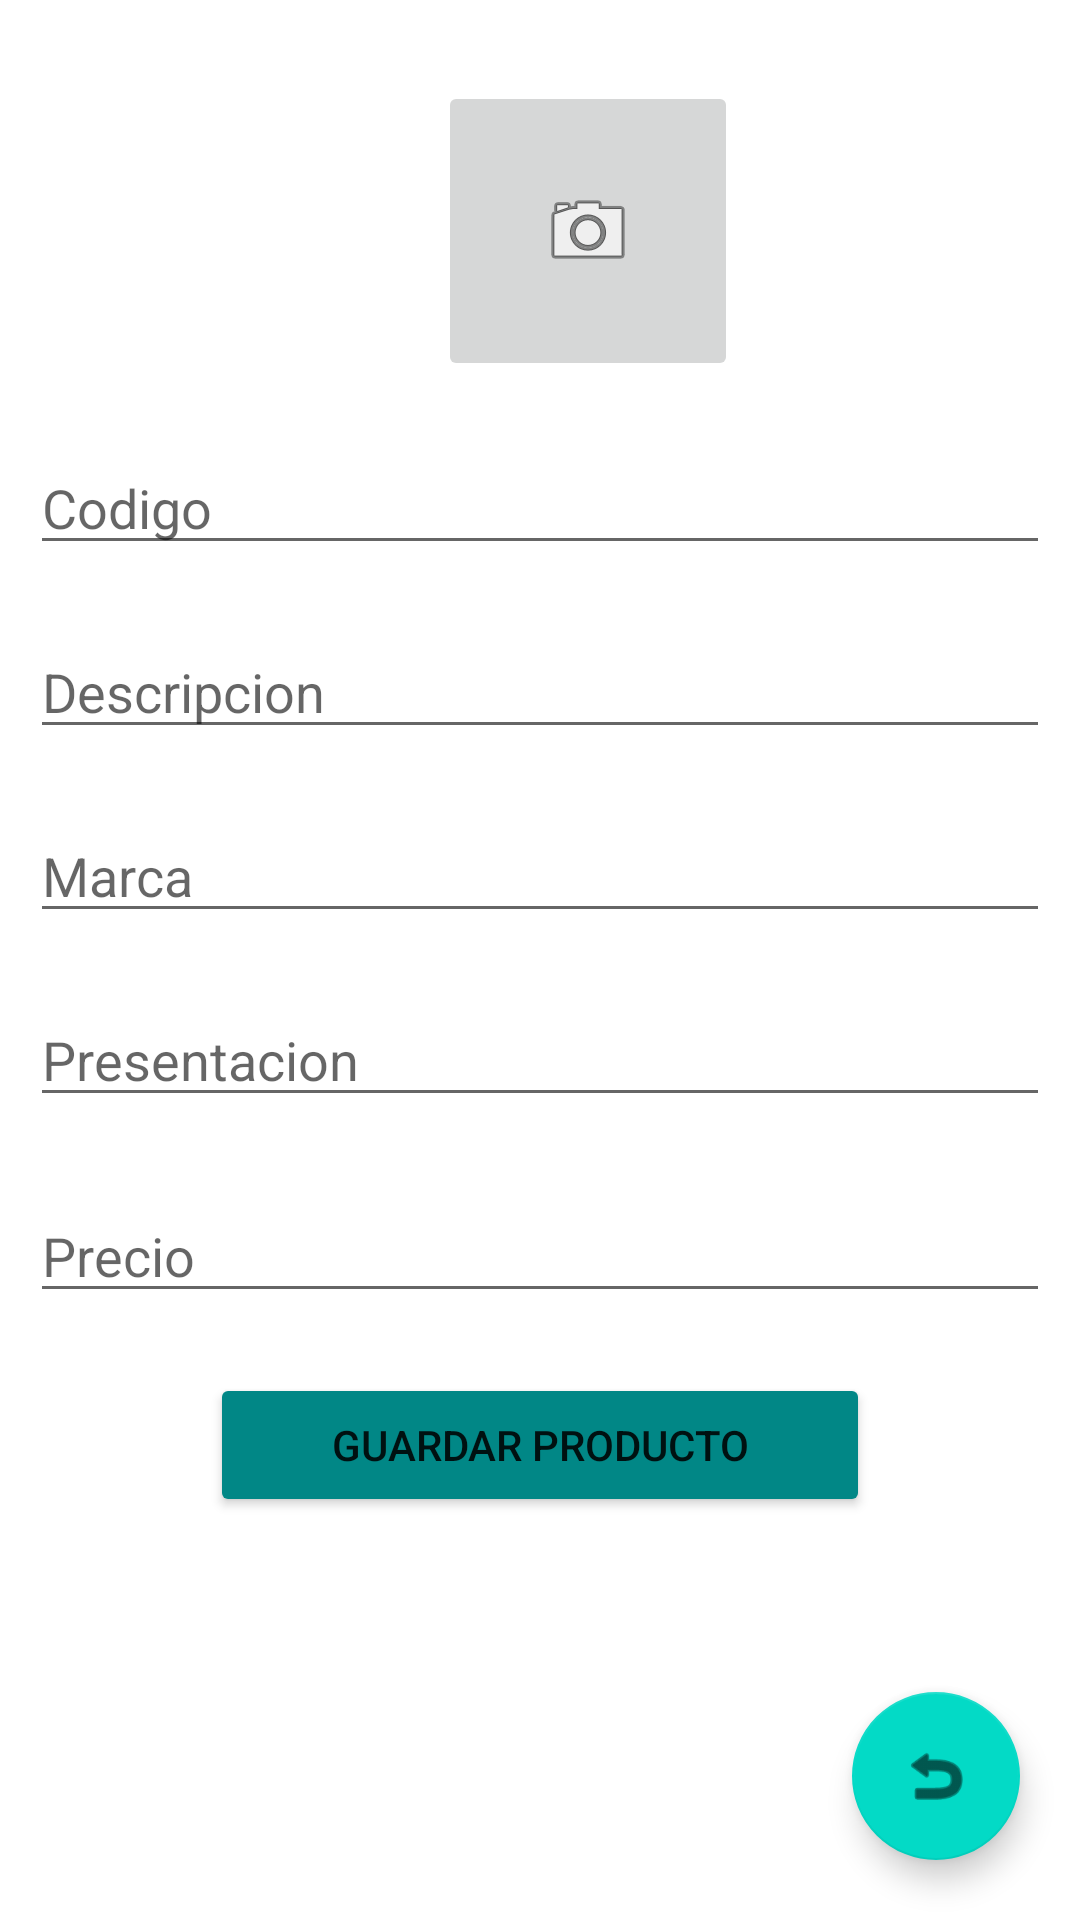

Where to tap for icons on this 1080px x 1920px app screen, as (x,y):
camera: (588,231)
revert: (936,1776)
